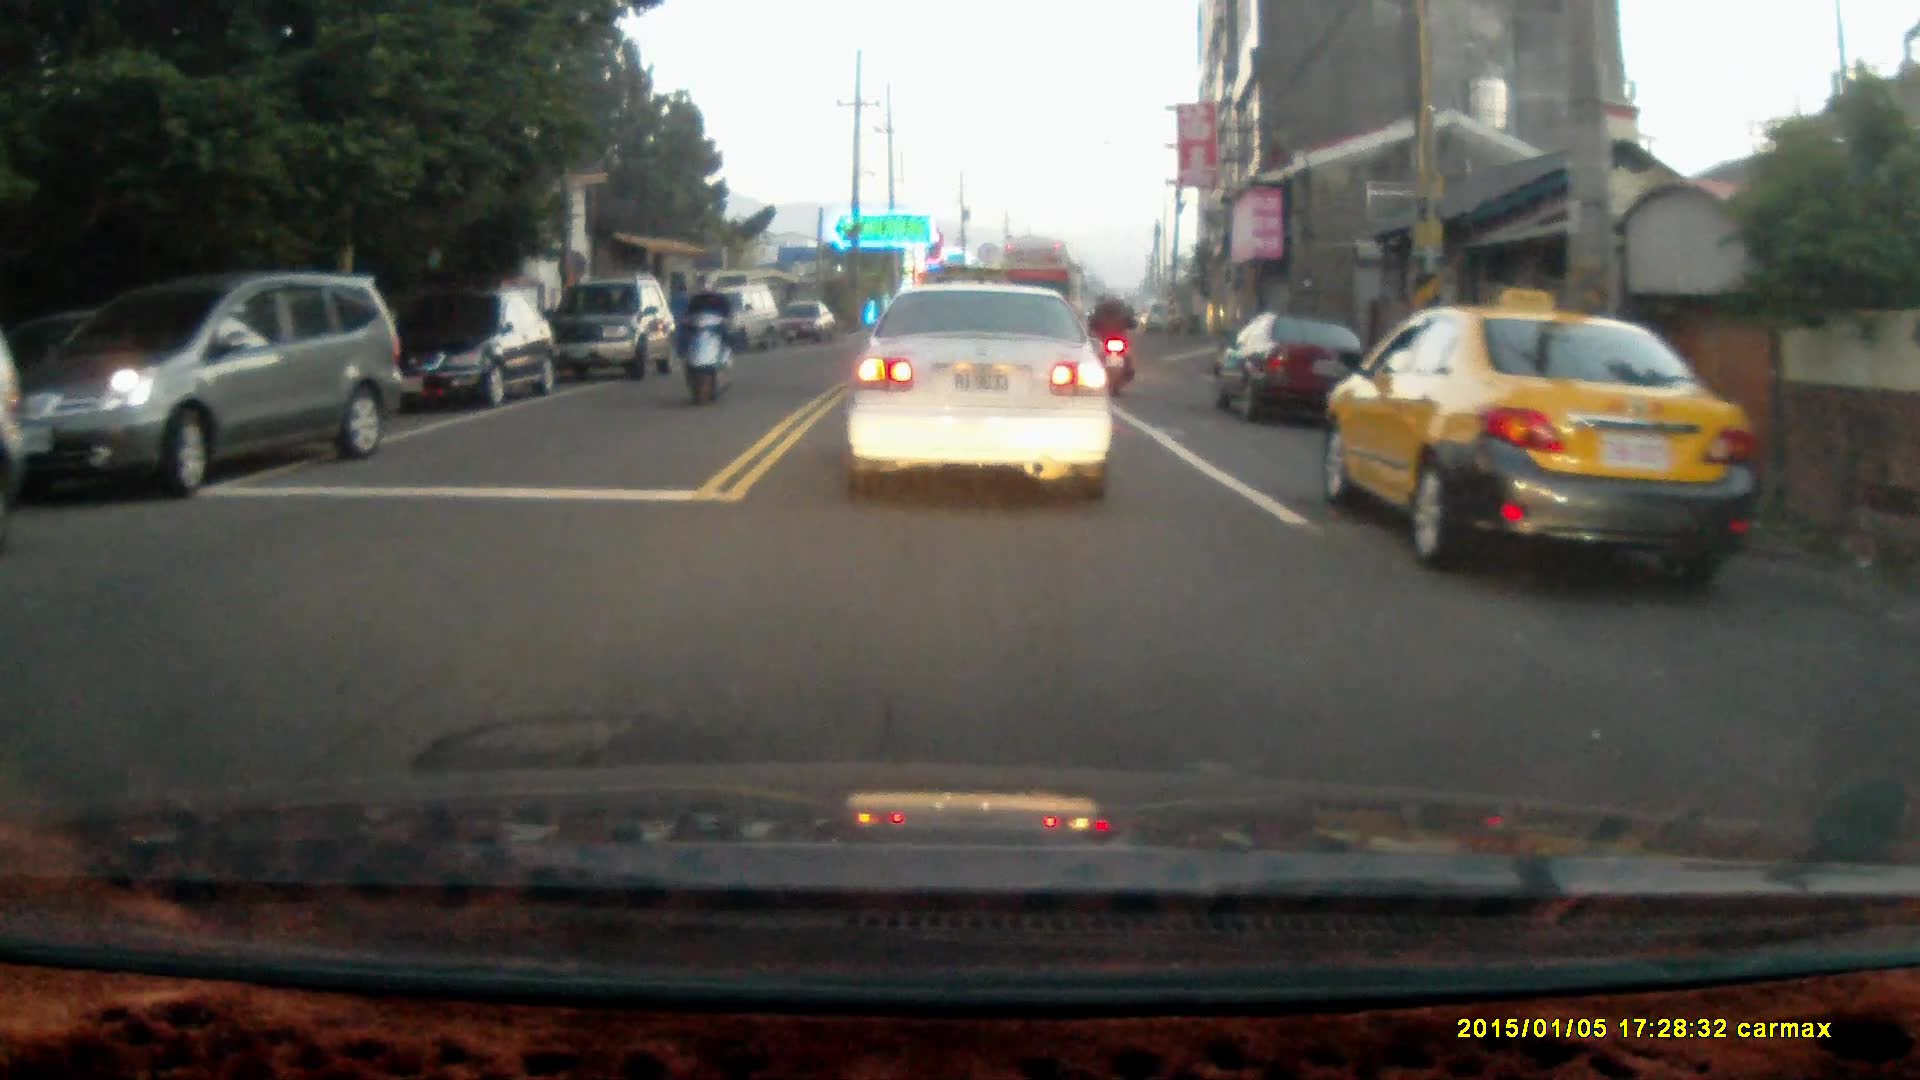pedestrian: (668, 279, 694, 361)
rider: (676, 267, 734, 407), (1083, 282, 1140, 402)
vehicle: (1316, 306, 1761, 586), (1, 269, 404, 497), (846, 283, 1121, 507), (380, 286, 556, 407), (1219, 311, 1376, 419), (546, 272, 681, 381), (686, 286, 783, 358), (770, 298, 840, 344)
